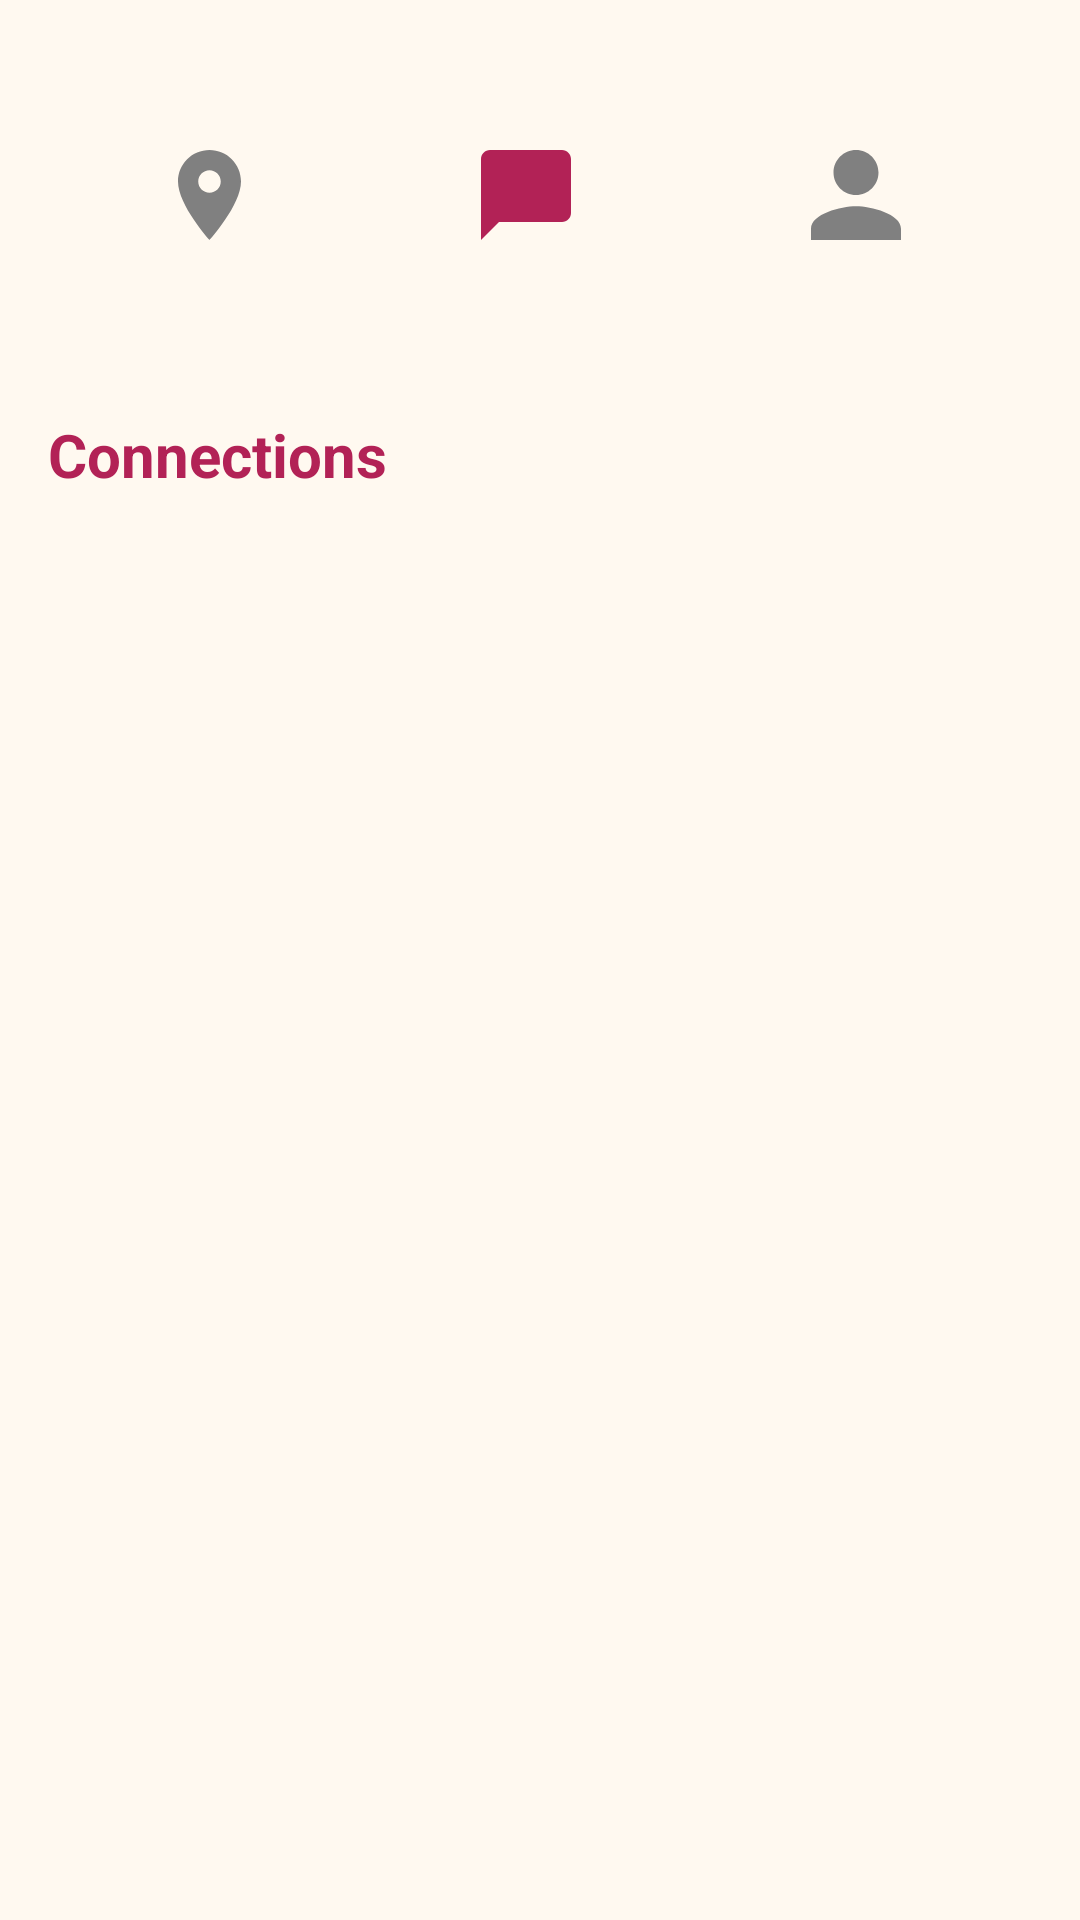

Named icons in this screenshot (1080 x 1920) and their centers, point (x, y):
chat: point (526, 195)
location: point (209, 195)
profile: point (856, 195)
